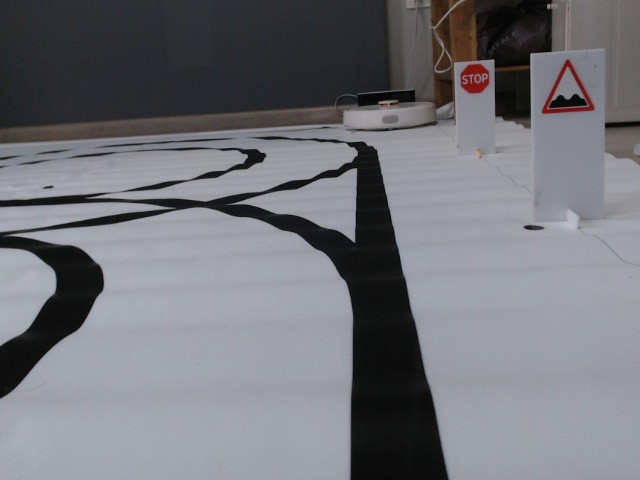Nerov: (540, 59, 597, 115)
